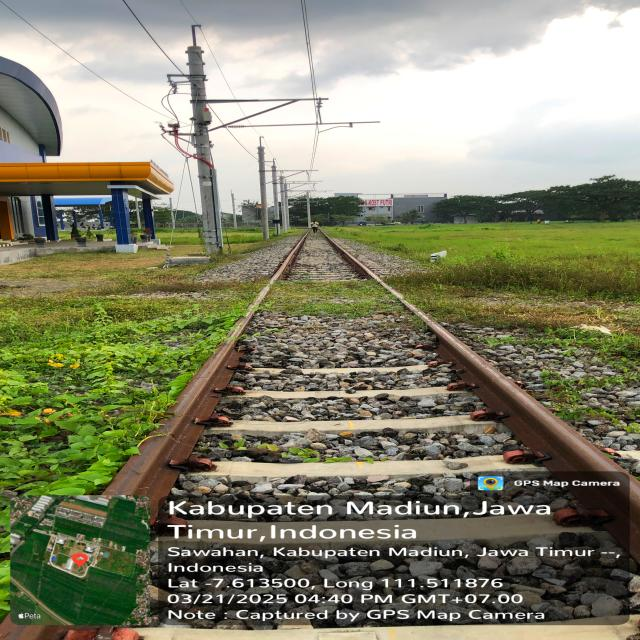rail-detection: (321, 232, 640, 557), (103, 231, 310, 521)
